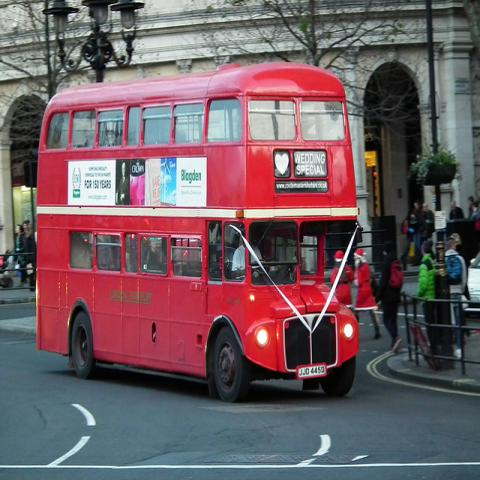bus: (36, 63, 362, 403)
car: (461, 251, 479, 302)
